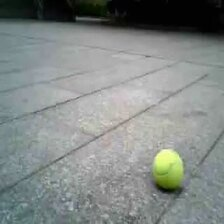tennis: (154, 148, 182, 185)
